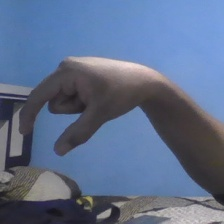Q: (16, 51, 153, 156)
